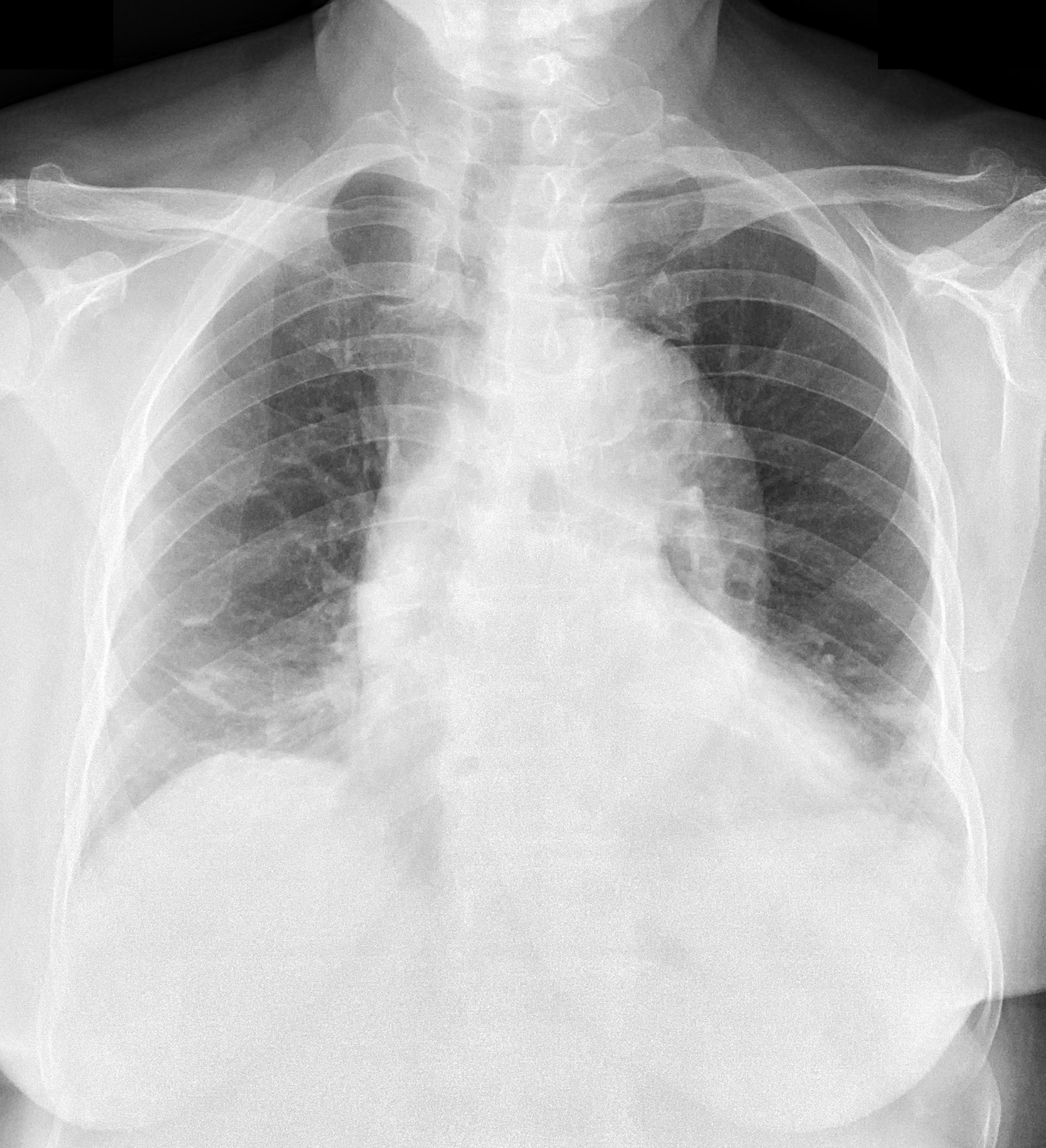Aortic enlargement: (510, 324, 764, 544)
Pulmonary fibrosis: (866, 690, 937, 783), (157, 664, 275, 717)
